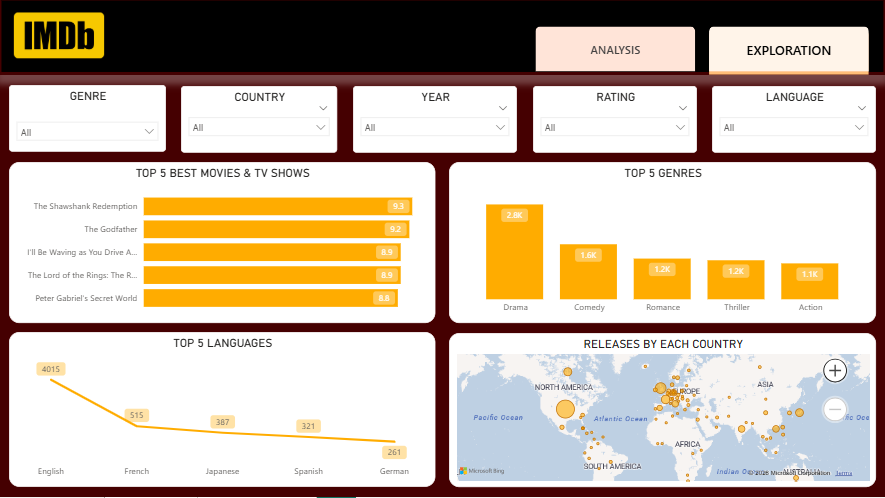

The page's visual inventory and layout, read from the dashboard file:
{"tool":"powerbi","page":{"name":"EXPLORATION","canvas":[1280,720],"ordinal":1},"visuals":[{"type":"shape","box":[0,0,1280,113],"z":0},{"type":"pageNavigator","box":[769.4,37.2,492,75.8],"z":1000},{"type":"image","box":[15.7,17.2,144.4,75.8],"z":2000},{"type":"slicer","title":"COUNTRY","fields":{"Values":["country_count.Value"]},"box":[264,127.6,225.2,95.9],"z":3000},{"type":"slicer","title":"YEAR","fields":{"Values":["cleaned_imdb_dataset.year"]},"box":[511.4,127.6,236.3,95.9],"z":4000},{"type":"slicer","title":"RATING","fields":{"Values":["cleaned_imdb_dataset.rating"]},"box":[770,127.6,236.3,95.9],"z":5000},{"type":"slicer","title":"LANGUAGE","fields":{"Values":["language_count.Value"]},"box":[1028.6,127.6,236.3,95.9],"z":6000},{"type":"slicer","title":"GENRE","fields":{"Values":["genre_count.Value"]},"box":[15.7,127.3,226,95.8],"z":7000},{"type":"clusteredBarChart","title":"TOP 5 BEST MOVIES & TV SHOWS","fields":{"Category":["top_n_movies.title"],"Y":["Avg(top_n_movies.rating)"]},"box":[15.7,237.4,613.5,231.7],"z":8000},{"type":"columnChart","title":"TOP 5 GENRES","fields":{"Category":["genre_count.Value"],"Y":["Avg(genre_count.Count)"]},"box":[649.3,237.4,615,231.7],"z":9000},{"type":"lineChart","title":"TOP 5 LANGUAGES","fields":{"Category":["language_count.Value"],"Y":["Sum(language_count.Count)"]},"box":[15.7,482,613.5,223.1],"z":10000},{"type":"map","title":"RELEASES BY EACH COUNTRY","fields":{"Category":["country_count.Value"],"Size":["Sum(country_count.Count)"]},"box":[649.3,483.4,615,221.7],"z":11000}]}

Visuals, with their boxes in screenshot pixels (x1, y1, x2, y2), scaled from the page's 1280x720 canvas onto the 885x498 screenshot:
shape: rect(0, 0, 884, 78)
pageNavigator: rect(532, 26, 872, 78)
image: rect(11, 12, 111, 64)
"COUNTRY" slicer: rect(183, 88, 338, 155)
"YEAR" slicer: rect(354, 88, 517, 155)
"RATING" slicer: rect(532, 88, 696, 155)
"LANGUAGE" slicer: rect(711, 88, 875, 155)
"GENRE" slicer: rect(11, 88, 167, 154)
"TOP 5 BEST MOVIES & TV SHOWS" clusteredBarChart: rect(11, 164, 435, 324)
"TOP 5 GENRES" columnChart: rect(449, 164, 874, 324)
"TOP 5 LANGUAGES" lineChart: rect(11, 333, 435, 488)
"RELEASES BY EACH COUNTRY" map: rect(449, 334, 874, 488)
